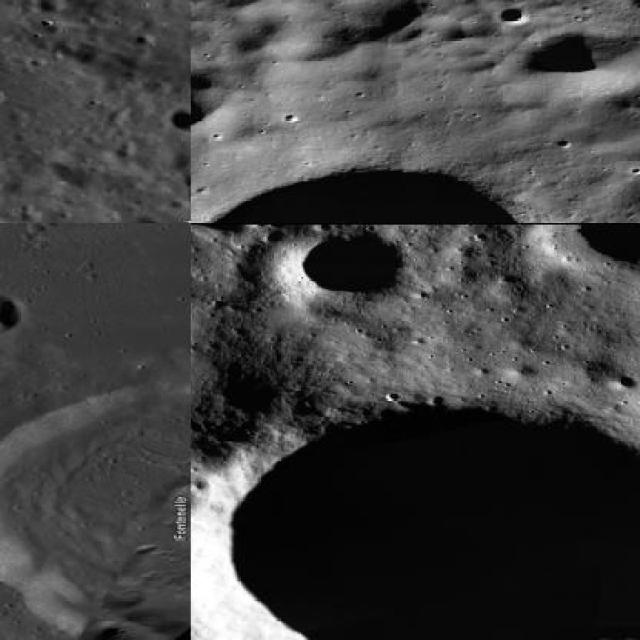crater: (191, 383, 638, 639), (0, 380, 189, 638), (190, 164, 608, 222), (293, 224, 422, 296), (517, 31, 638, 97), (0, 288, 22, 335), (171, 103, 189, 135)
